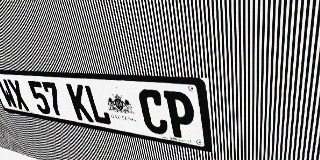5: (27, 81, 53, 115)
7: (40, 82, 67, 118)
C: (137, 89, 169, 136)
K: (66, 83, 94, 122)
L: (83, 85, 112, 126)
P: (163, 91, 197, 141)
W: (0, 78, 19, 109)
X: (6, 79, 30, 111)
